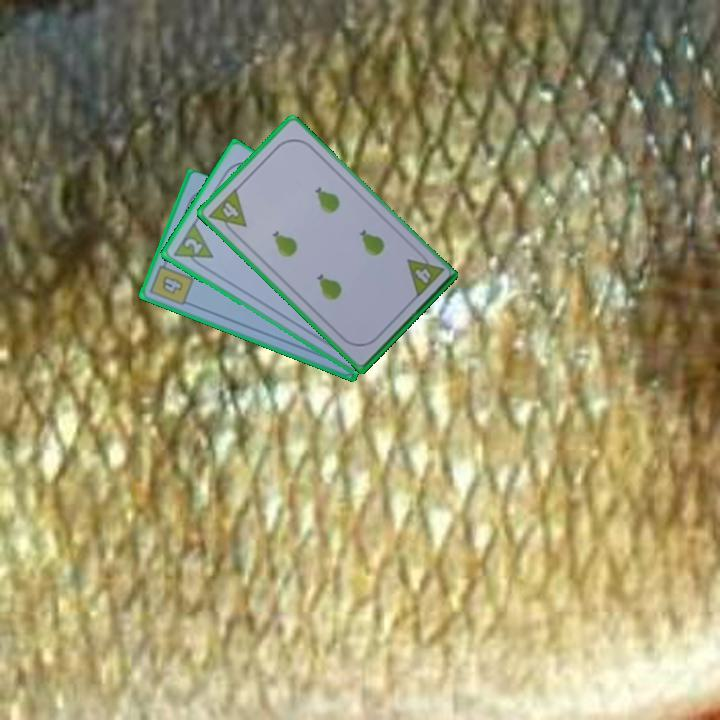2p: (169, 219, 216, 272)
4b: (146, 256, 196, 309)
4p: (205, 185, 249, 239), (403, 247, 446, 301)
